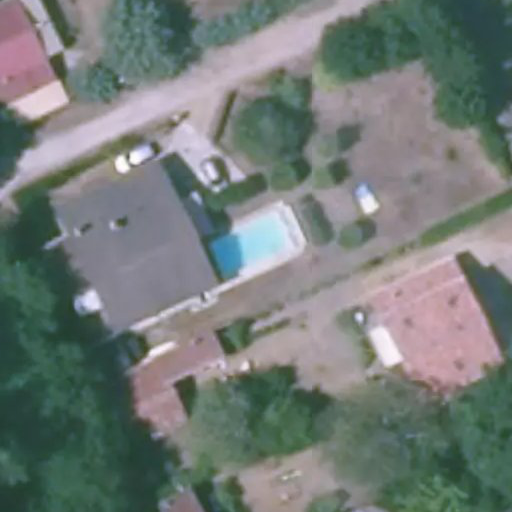pool: (214, 239, 294, 244)
